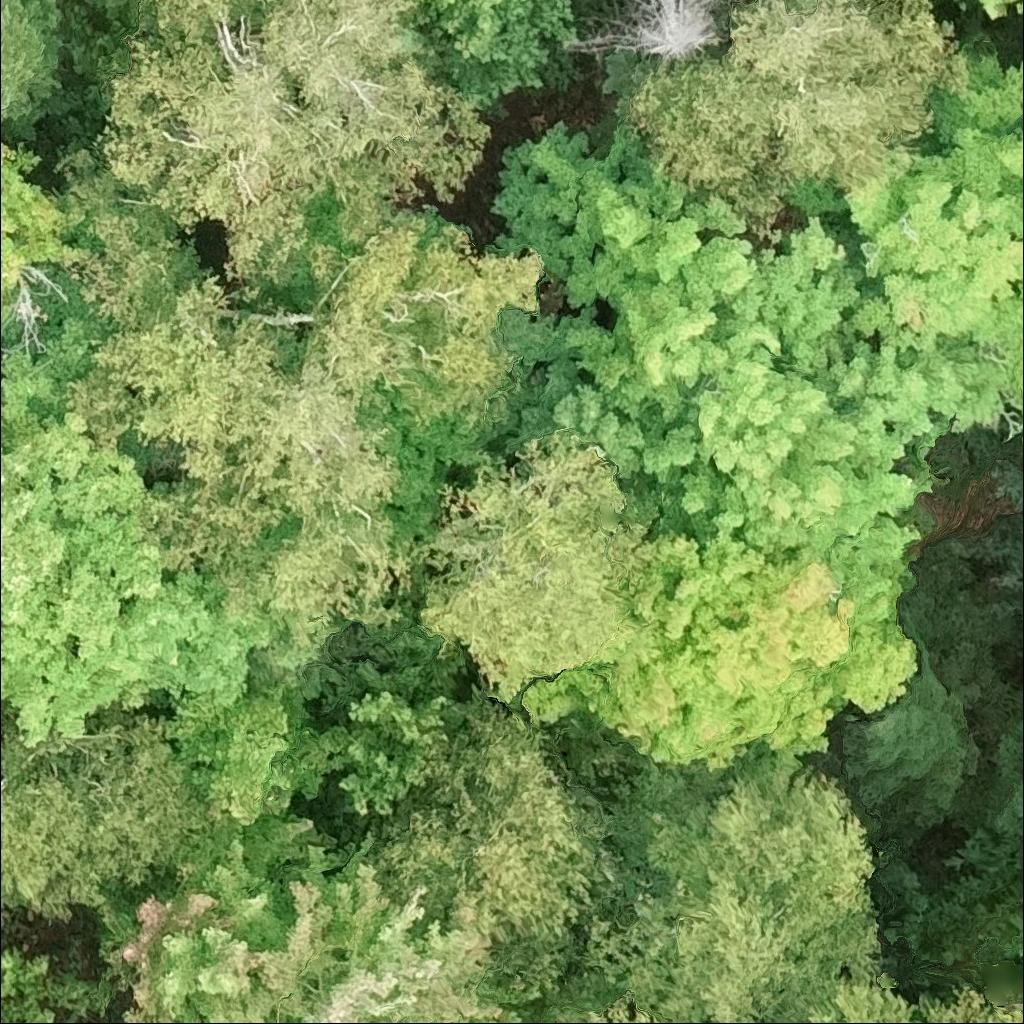crown: (476, 116, 1013, 562), (66, 272, 418, 647), (95, 0, 488, 292), (520, 515, 924, 770), (364, 683, 642, 1020), (95, 814, 543, 1023), (556, 747, 887, 1023), (619, 0, 969, 249), (410, 429, 663, 699), (288, 204, 549, 465), (845, 48, 1023, 422), (0, 509, 274, 751), (799, 549, 1015, 826), (0, 704, 214, 925), (0, 319, 155, 545), (150, 680, 353, 826), (0, 132, 94, 322), (334, 687, 454, 832), (419, 0, 582, 98), (943, 686, 1023, 878), (929, 454, 1023, 615), (799, 957, 1023, 1023), (557, 0, 731, 70), (0, 0, 69, 139), (0, 947, 96, 1023), (541, 990, 666, 1023), (972, 0, 1023, 22), (956, 0, 970, 6), (1020, 432, 1023, 449)
